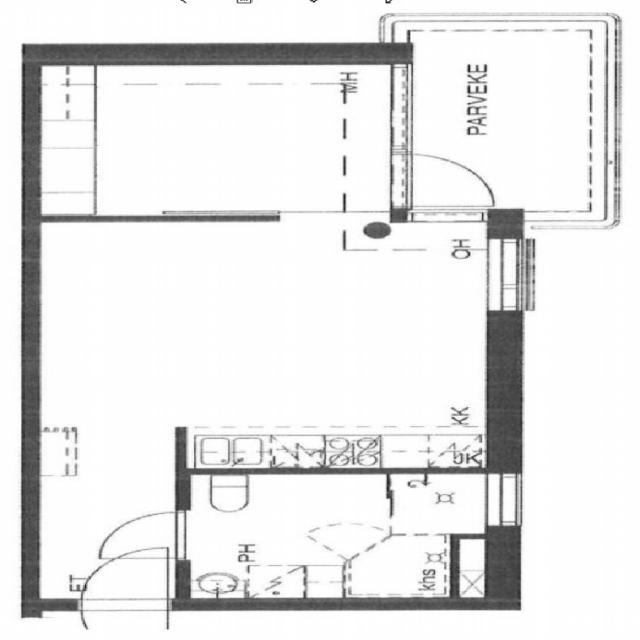door: (81, 546, 167, 610), (391, 155, 498, 206), (99, 512, 190, 558)
